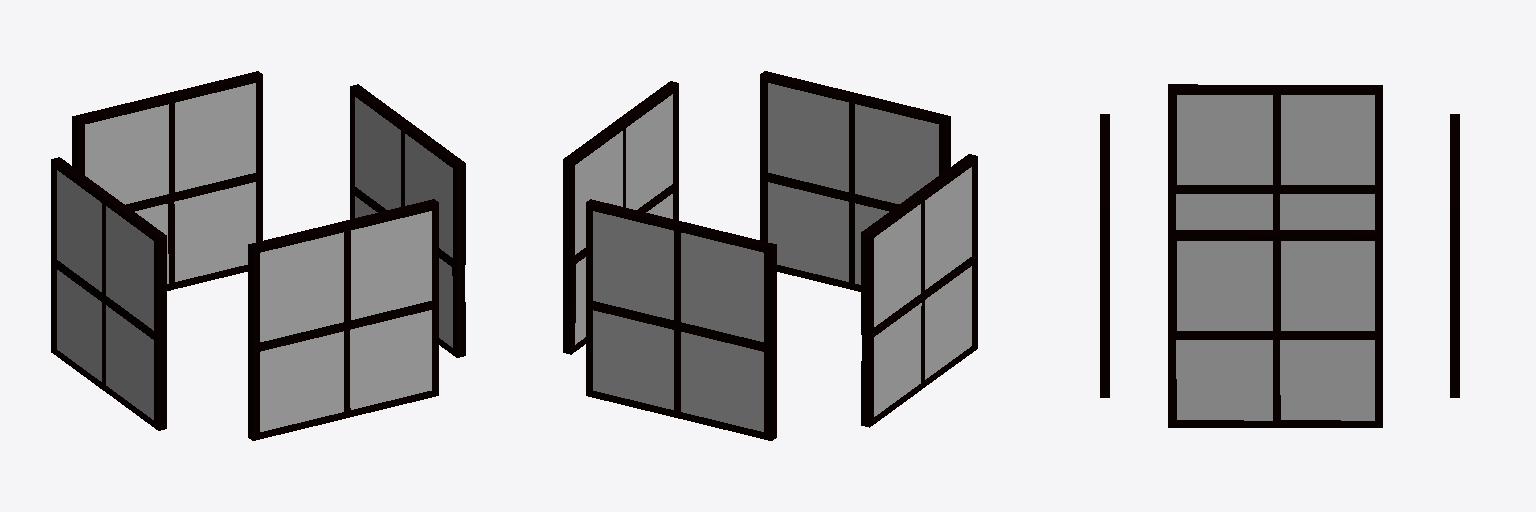
Rendered from windowsMultiple.obj.
3 renders of one model, left to right at view 1: azimuth 30°, elevation 25°; view 2: azimuth 150°, elevation 25°; view 3: azimuth 270°, elevation 25°, orthographic.
Parts seen in each view (by area): view 1: Glass.001_Cube.002_Material.002, Glass_Cube.001_Material.001, Glass.003_Cube.006_Material.006, Cube.001_Cube.003_Material.003, Glass.002_Cube.004_Material.004, Cube.003_Cube.007_Material.007, Cube_Material, Cube.002_Cube.005_Material.005; view 2: Glass_Cube.001_Material.001, Glass.001_Cube.002_Material.002, Glass.003_Cube.006_Material.006, Cube_Material, Glass.002_Cube.004_Material.004, Cube.003_Cube.007_Material.007, Cube.001_Cube.003_Material.003, Cube.002_Cube.005_Material.005; view 3: Glass.002_Cube.004_Material.004, Glass.003_Cube.006_Material.006, Cube.002_Cube.005_Material.005, Cube.003_Cube.007_Material.007, Cube.001_Cube.003_Material.003, Cube_Material.
Boxes of the visible parts, x1,y1,x2,y2 form: Glass.001_Cube.002_Material.002: [260, 211, 431, 431]; Glass_Cube.001_Material.001: [85, 83, 255, 283]; Glass.003_Cube.006_Material.006: [57, 170, 153, 419]; Cube.001_Cube.003_Material.003: [248, 199, 438, 440]; Glass.002_Cube.004_Material.004: [355, 97, 452, 347]; Cube.003_Cube.007_Material.007: [51, 157, 166, 430]; Cube_Material: [72, 71, 262, 290]; Cube.002_Cube.005_Material.005: [350, 84, 465, 357]; Glass_Cube.001_Material.001: [593, 211, 763, 431]; Glass.001_Cube.002_Material.002: [768, 83, 938, 284]; Glass.003_Cube.006_Material.006: [874, 167, 971, 416]; Cube_Material: [586, 199, 776, 440]; Glass.002_Cube.004_Material.004: [575, 94, 672, 344]; Cube.003_Cube.007_Material.007: [861, 154, 977, 427]; Cube.001_Cube.003_Material.003: [760, 71, 950, 291]; Cube.002_Cube.005_Material.005: [563, 81, 678, 354]; Glass.002_Cube.004_Material.004: [1176, 241, 1374, 420]; Glass.003_Cube.006_Material.006: [1176, 95, 1374, 229]; Cube.002_Cube.005_Material.005: [1168, 230, 1382, 427]; Cube.003_Cube.007_Material.007: [1168, 84, 1382, 229]; Cube.001_Cube.003_Material.003: [1100, 114, 1109, 397]; Cube_Material: [1450, 114, 1459, 397].
Size of the model in its own units: 7.12 by 4.27 by 7.22.